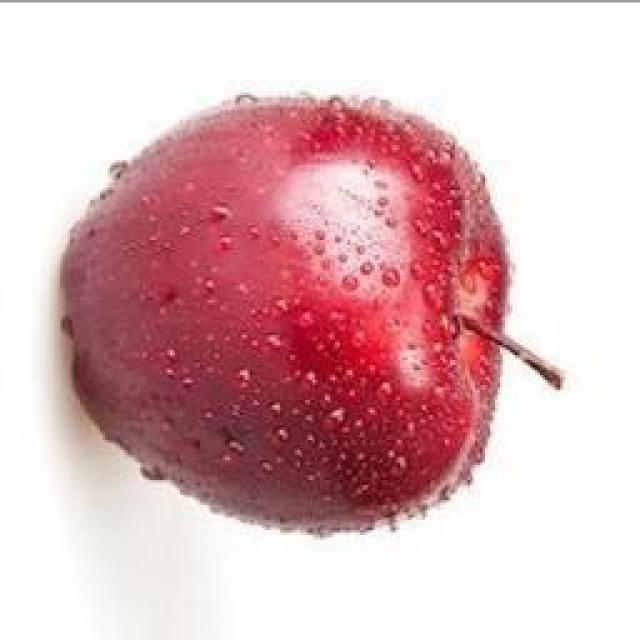Apple: (61, 98, 508, 532)
